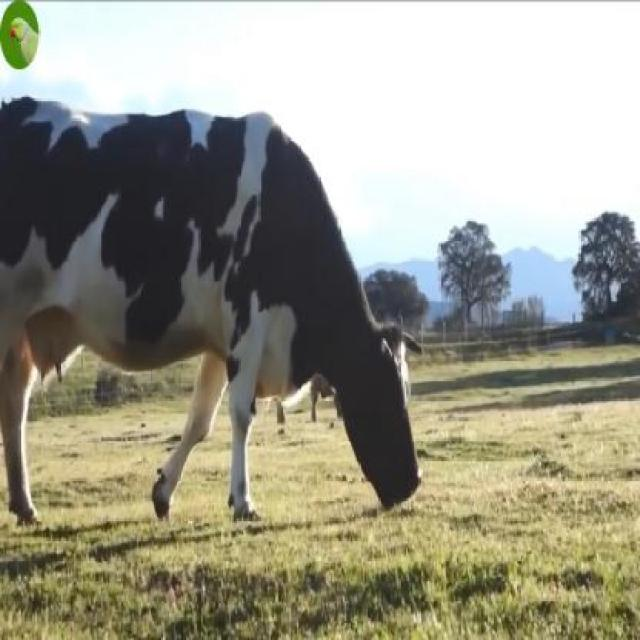Cow: (0, 95, 423, 534)
